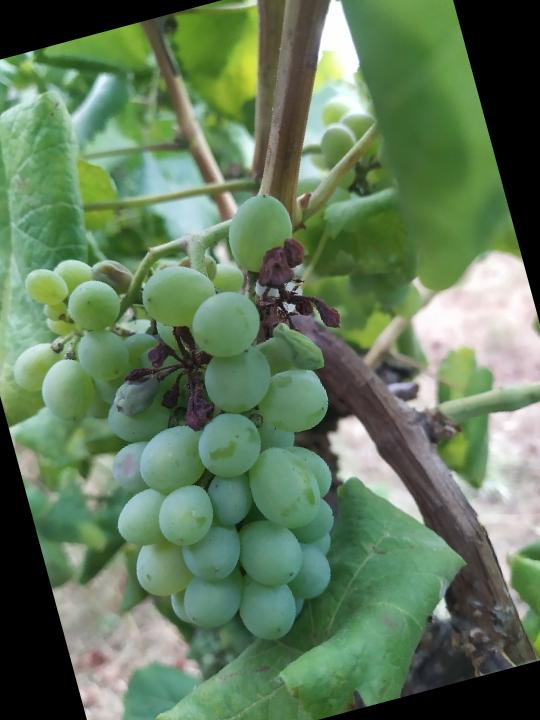grape: (0, 178, 421, 691)
